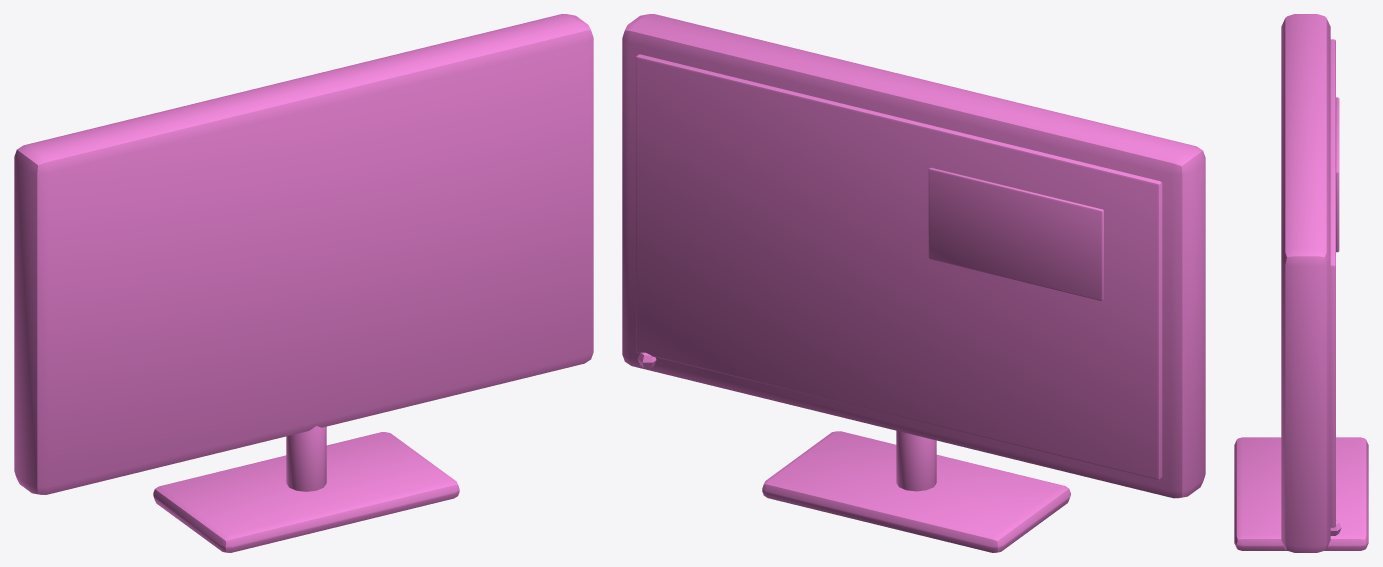
Rendered from Parcel_TV.fbx.
3 renders of one model, left to right at view 1: azimuth 30°, elevation 25°; view 2: azimuth 150°, elevation 25°; view 3: azimuth 270°, elevation 25°, orthographic. The views are drawn at different scales.
Parts seen in each view (by area): view 1: Parcel; view 2: Parcel; view 3: Parcel.
Part boxes in pixels (<box>): Parcel: <box>14,14,593,552</box>; Parcel: <box>622,14,1205,552</box>; Parcel: <box>1234,14,1368,552</box>.
Size of the model in its own units: 2.6 by 1.83 by 0.6.
1 material, 1 textured.
